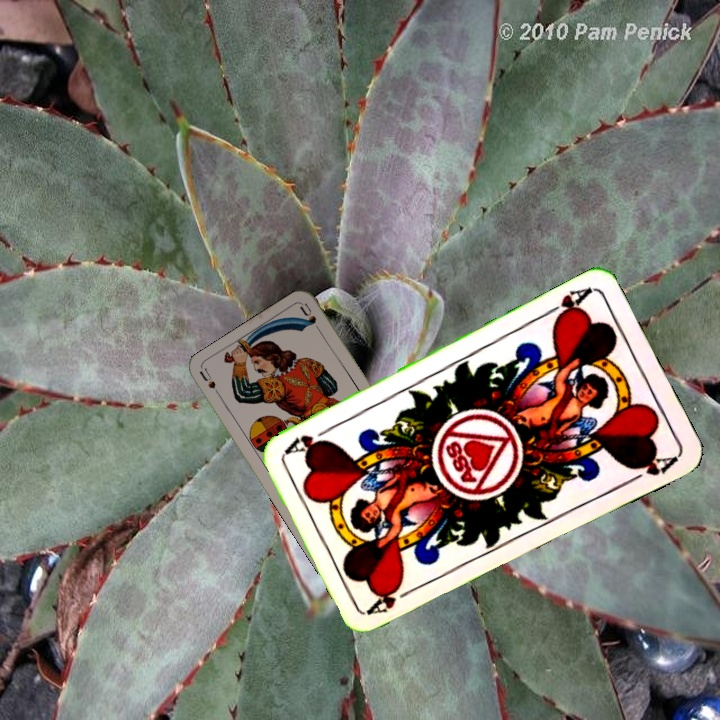HA: (539, 284, 594, 326), (365, 582, 421, 618)
SU: (196, 365, 225, 403)
